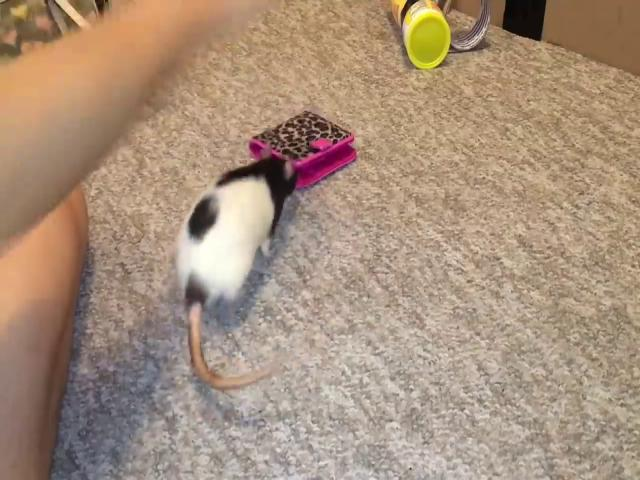Tikus: (173, 150, 296, 392)
